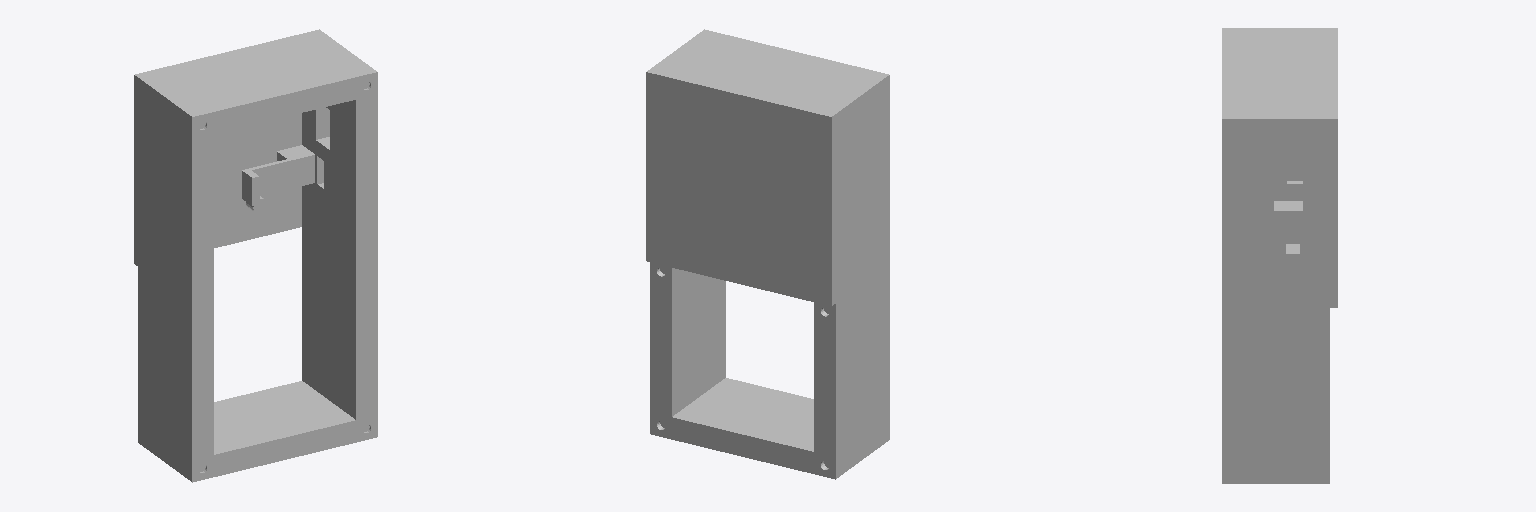
Rendered from back.obj.
3 views of the same model, side by side, from view 1: azimuth 30°, elevation 25°; view 2: azimuth 150°, elevation 25°; view 3: azimuth 270°, elevation 25° (orthographic).
Parts seen in each view (by area): view 1: Body001; view 2: Body001; view 3: Body001.
Boxes of the visible parts, <box> form: Body001: <box>134,29,377,482</box>; Body001: <box>646,29,889,479</box>; Body001: <box>1222,28,1337,483</box>.
Bounding box in the file's own units: 65 × 122 × 35.37.